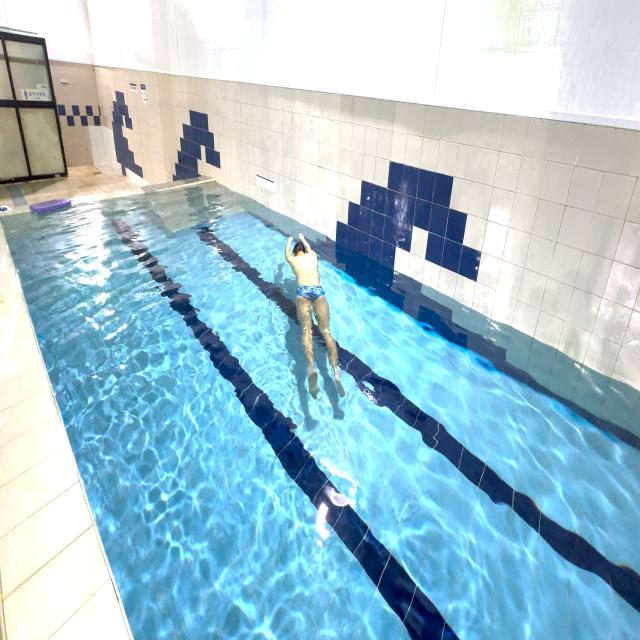Swimming: (274, 218, 352, 419)
